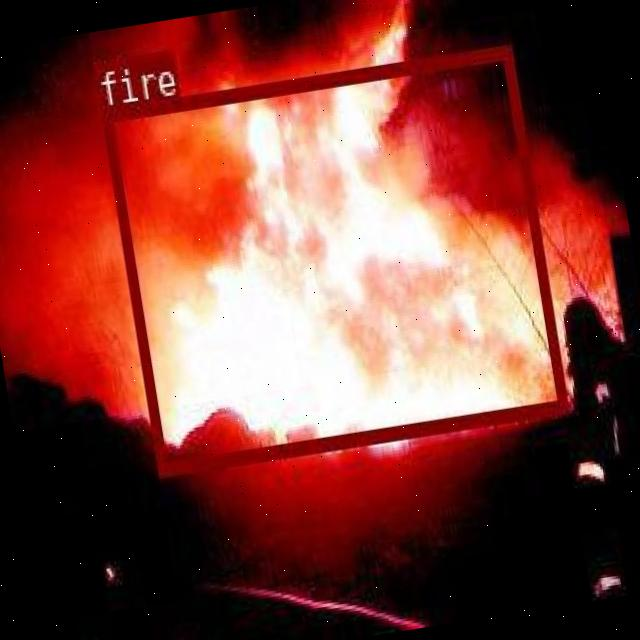fire: (99, 44, 566, 474)
